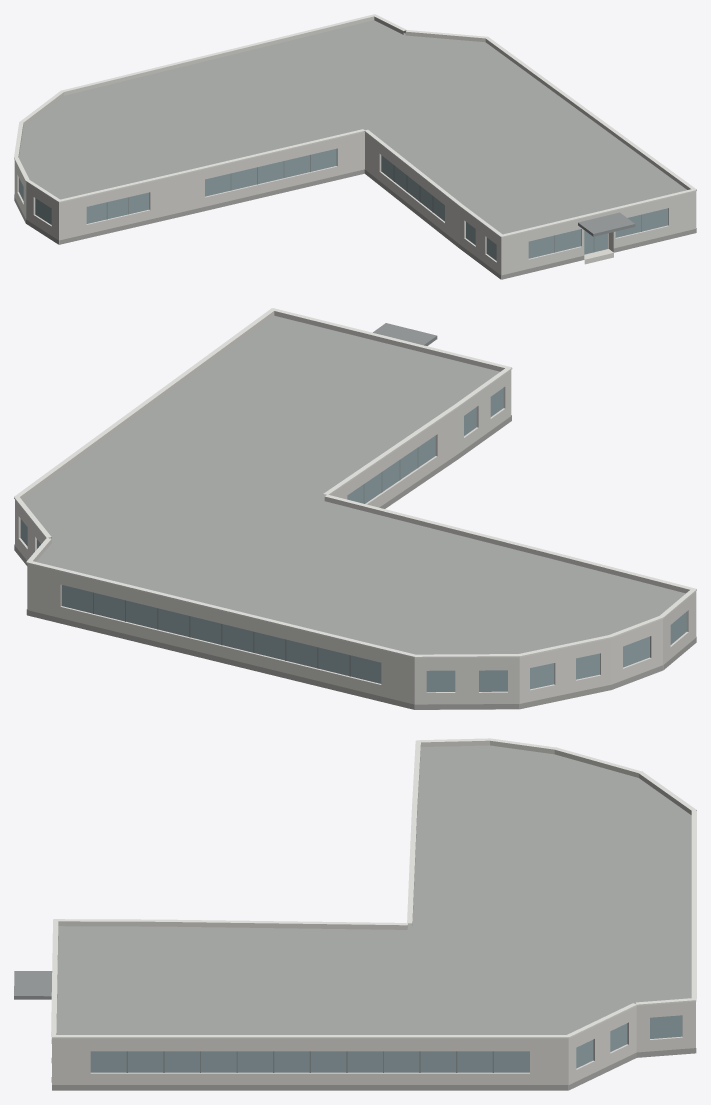
The picture shows the model from 3 angles, top to bottom: view 1: azimuth 30°, elevation 25°; view 2: azimuth 150°, elevation 25°; view 3: azimuth 270°, elevation 25°; orthographic projection. The views are drawn at different scales.
Visible parts, largest first — view 1: b981579191__roof, b981579191__wall, b981579191__glass, b981579191__trim, b981579191__parapet, b981579191__base, b981579191__canopy; view 2: b981579191__roof, b981579191__wall, b981579191__glass, b981579191__trim, b981579191__parapet, b981579191__base, b981579191__canopy; view 3: b981579191__roof, b981579191__wall, b981579191__glass, b981579191__trim, b981579191__parapet, b981579191__base, b981579191__canopy.
Boxes of the visible parts, x1=… form: b981579191__roof: x1=19, y1=20, x2=686, y2=234; b981579191__wall: x1=14, y1=134, x2=696, y2=279; b981579191__glass: x1=19, y1=148, x2=668, y2=260; b981579191__trim: x1=14, y1=14, x2=696, y2=237; b981579191__parapet: x1=14, y1=16, x2=696, y2=240; b981579191__base: x1=14, y1=169, x2=696, y2=279; b981579191__canopy: x1=578, y1=212, x2=635, y2=236; b981579191__roof: x1=22, y1=315, x2=685, y2=709; b981579191__wall: x1=15, y1=373, x2=696, y2=709; b981579191__glass: x1=20, y1=388, x2=686, y2=692; b981579191__trim: x1=14, y1=308, x2=696, y2=658; b981579191__parapet: x1=15, y1=311, x2=696, y2=661; b981579191__base: x1=14, y1=415, x2=696, y2=709; b981579191__canopy: x1=373, y1=323, x2=437, y2=345; b981579191__roof: x1=56, y1=745, x2=691, y2=1034; b981579191__wall: x1=52, y1=1004, x2=695, y2=1089; b981579191__glass: x1=90, y1=1015, x2=682, y2=1072; b981579191__trim: x1=51, y1=738, x2=696, y2=1038; b981579191__parapet: x1=52, y1=740, x2=695, y2=1041; b981579191__base: x1=51, y1=1048, x2=696, y2=1090; b981579191__canopy: x1=14, y1=971, x2=52, y2=999.
Size of the model in its own units: 47.44 by 4.35 by 45.82.
